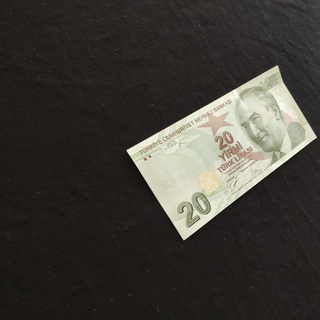20TLFront: (125, 65, 317, 240)
